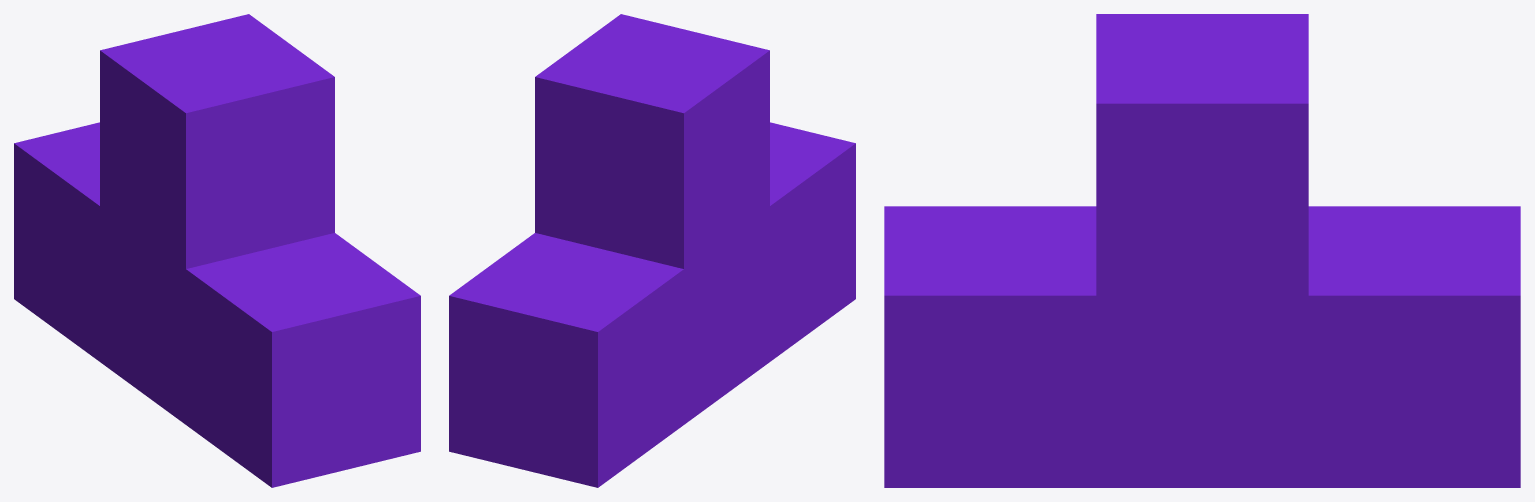
3 views of the same model, side by side, from view 1: azimuth 30°, elevation 25°; view 2: azimuth 150°, elevation 25°; view 3: azimuth 270°, elevation 25° (orthographic). The views are drawn at different scales.
Visible parts, largest first — view 1: T; view 2: T; view 3: T.
Boxes of the visible parts, bbox=[...] form: T: bbox=[14, 14, 420, 487]; T: bbox=[449, 14, 855, 487]; T: bbox=[884, 14, 1520, 487].
Size of the model in its own units: 200 by 400 by 600.
